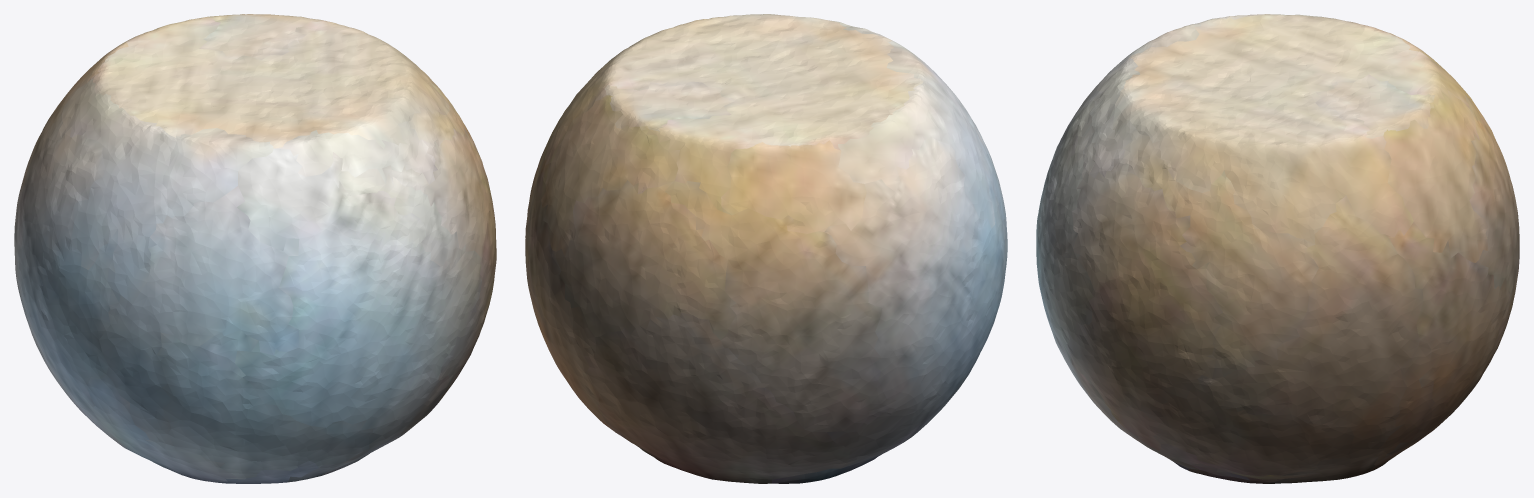
The model's file is side-table.glb.
3 renders of one model, left to right at view 1: azimuth 30°, elevation 25°; view 2: azimuth 150°, elevation 25°; view 3: azimuth 270°, elevation 25°, orthographic.
Parts seen in each view (by area): view 1: Scaniverse; view 2: Scaniverse; view 3: Scaniverse.
Part boxes in pixels (x1,y1,x2,y2): Scaniverse: (14, 14, 496, 483); Scaniverse: (525, 14, 1007, 483); Scaniverse: (1036, 14, 1519, 483).
Size of the model in its own units: 0.3107 by 0.25 by 0.3105.
Materials: 1 (1 with a texture image).
